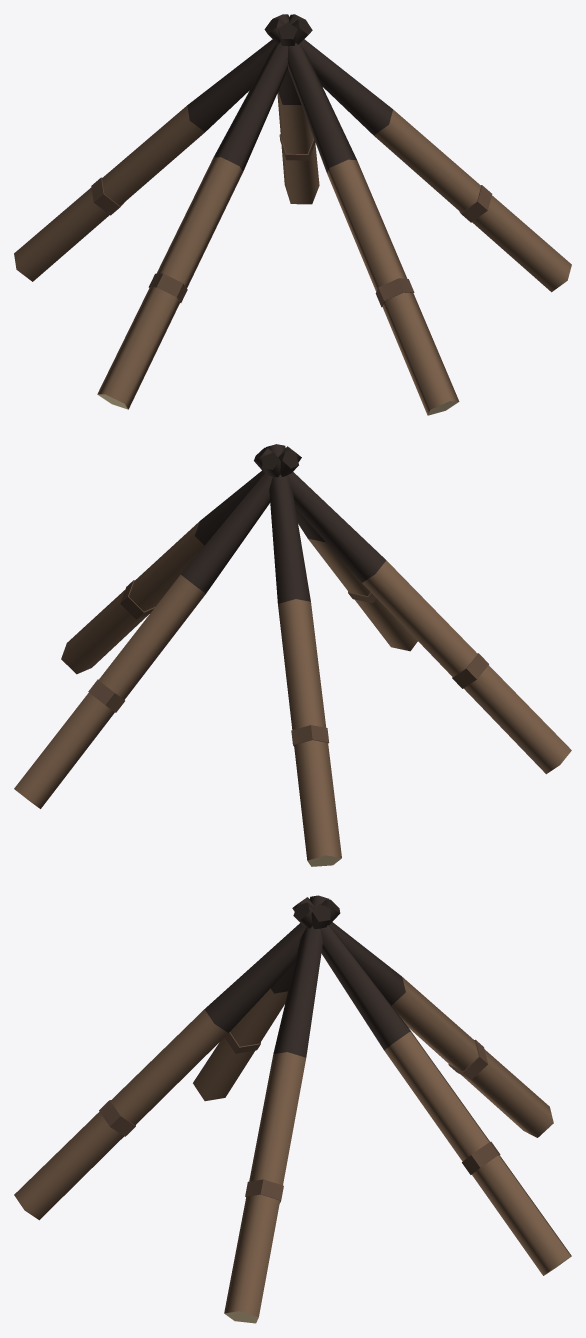
Rendered from campfire_extra.glb.
3 renders of one model, top to bottom at view 1: azimuth 30°, elevation 25°; view 2: azimuth 150°, elevation 25°; view 3: azimuth 270°, elevation 25°, orthographic. The views are drawn at different scales.
Parts seen in each view (by area): view 1: body; view 2: body; view 3: body.
Part boxes in pixels (x1,y1,x2,y2): body: (14,14,571,415); body: (14,444,571,866); body: (14,895,571,1323).
Bounding box in the file's own units: 1.09 × 0.6499 × 1.06.
